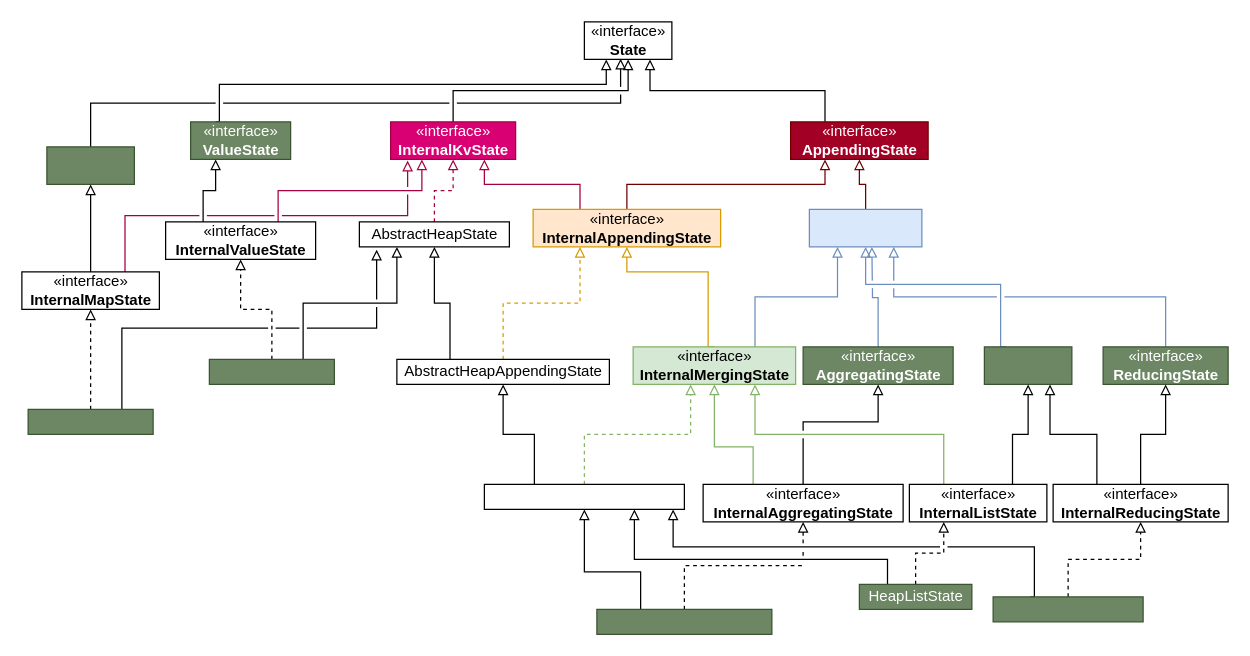
Image size: 1250x656. Some labels were removed from this diagram. Here are the shapes that lost their labels. From the top down, the box of each, then its label:
(46, 146, 134, 184): «interface» MapState
(808, 208, 922, 247): «interface» MergingState
(208, 358, 334, 384): HeapValueState
(983, 346, 1072, 384): «interface» ListState
(27, 408, 153, 434): HeapMapState
(483, 483, 684, 509): AbstractHeapMergingState
(596, 608, 772, 634): HeapAggregatingState
(992, 596, 1143, 622): HeapReducingState
